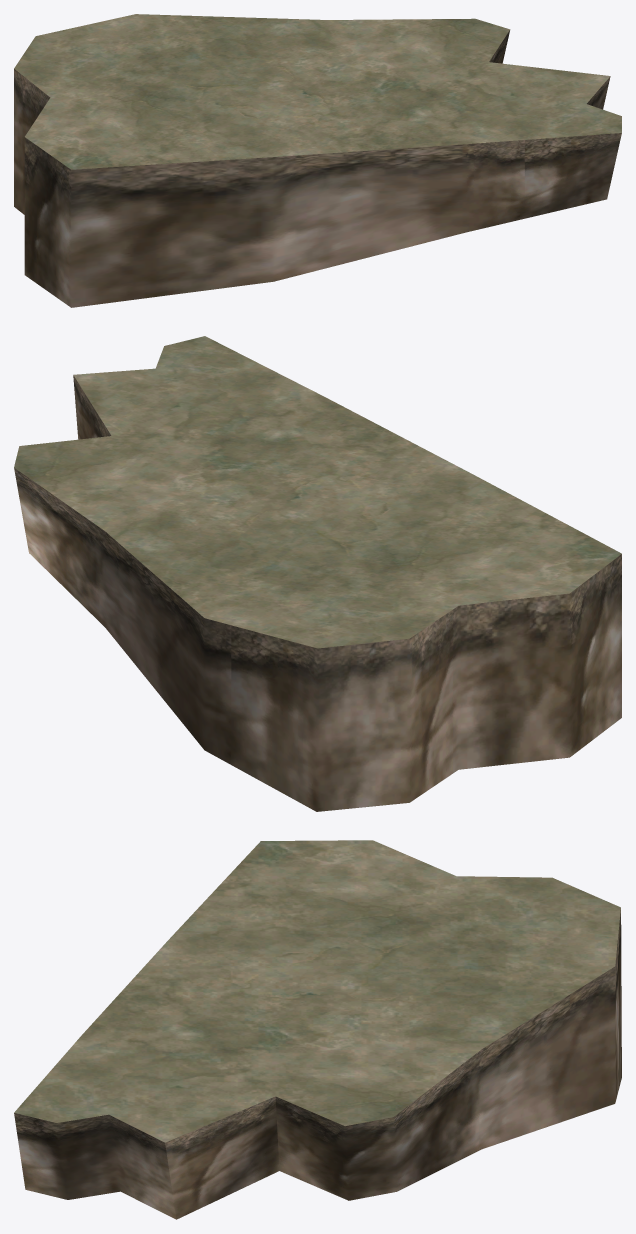
The model's file is ANIMATEDINSTANCES_ROCKFALL_601__AI.fbx.
3 renders of one model, top to bottom at view 1: azimuth 30°, elevation 25°; view 2: azimuth 150°, elevation 25°; view 3: azimuth 270°, elevation 25°, orthographic. The views are drawn at different scales.
Parts seen in each view (by area): view 1: ANIMATEDINSTANCES_ROCKFALL_601__AI; view 2: ANIMATEDINSTANCES_ROCKFALL_601__AI; view 3: ANIMATEDINSTANCES_ROCKFALL_601__AI.
Part boxes in pixels (box(x1,y1,x2,y2)): ANIMATEDINSTANCES_ROCKFALL_601__AI: box(14, 14, 621, 307); ANIMATEDINSTANCES_ROCKFALL_601__AI: box(14, 336, 621, 811); ANIMATEDINSTANCES_ROCKFALL_601__AI: box(14, 840, 621, 1219).
Bounding box in the file's own units: 32588 × 8569 × 27674.
Materials: 2 (2 with a texture image).
